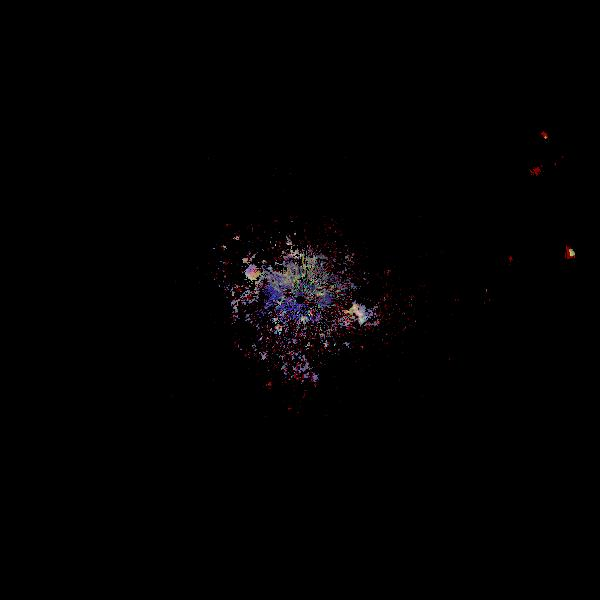roost: (334, 301, 367, 334)
